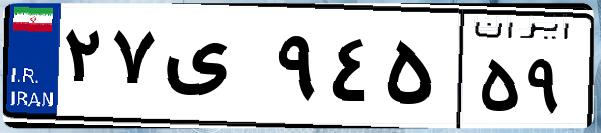2: (57, 26, 110, 100)
4: (330, 28, 385, 110)
5: (385, 28, 445, 110), (475, 38, 525, 113)
7: (110, 28, 158, 98)
9: (270, 28, 330, 110), (525, 38, 570, 115)
ی: (158, 20, 270, 120)
